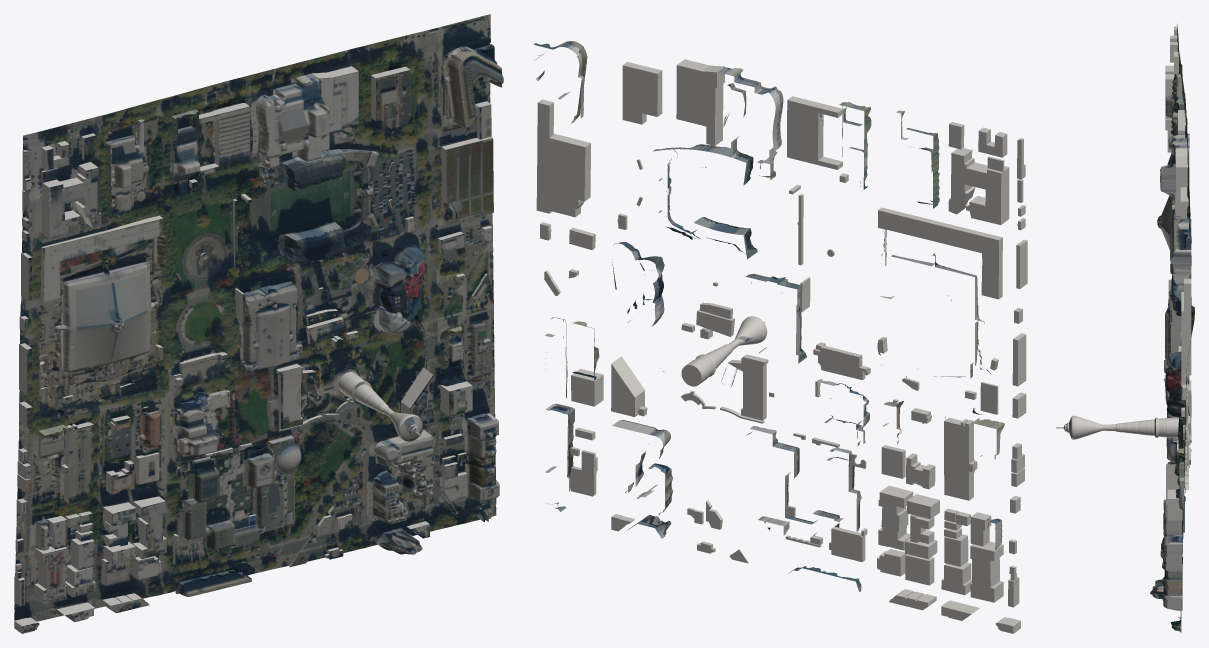
The model's file is seattle_center_textured.glb.
3 renders of one model, left to right at view 1: azimuth 30°, elevation 25°; view 2: azimuth 150°, elevation 25°; view 3: azimuth 270°, elevation 25°, orthographic. The views are drawn at different scales.
Visible parts, largest first — view 1: surface, walls; view 2: walls, surface; view 3: walls, surface.
Boxes of the visible parts, bbox=[...] form: surface: bbox=[14, 14, 503, 633]; walls: bbox=[14, 43, 499, 633]; walls: bbox=[533, 42, 1027, 633]; surface: bbox=[538, 41, 1002, 585]; walls: bbox=[1056, 26, 1191, 632]; surface: bbox=[1063, 24, 1194, 632].
Bounding box in the file's own units: 700 × 700 × 208.
Materials: 1 (1 with a texture image).
